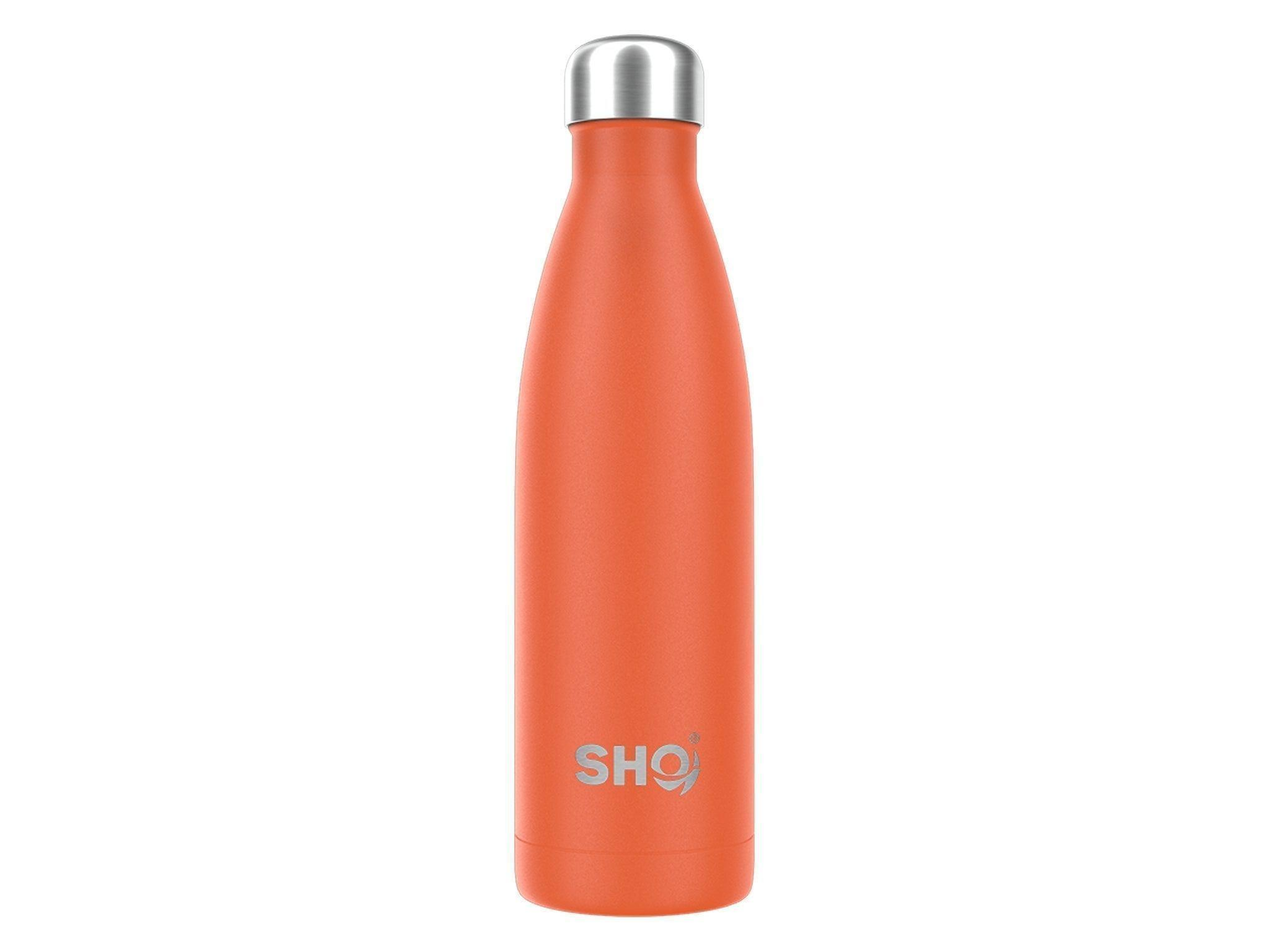gym bottle: (499, 17, 768, 915)
